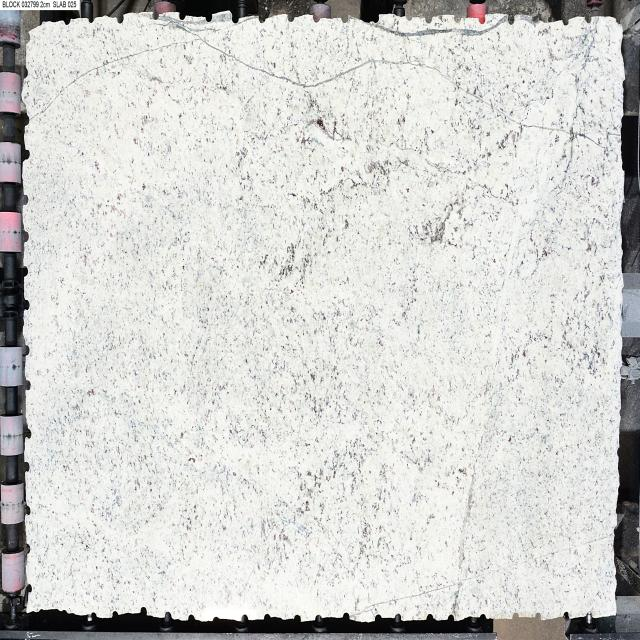chapa: (22, 14, 622, 621)
